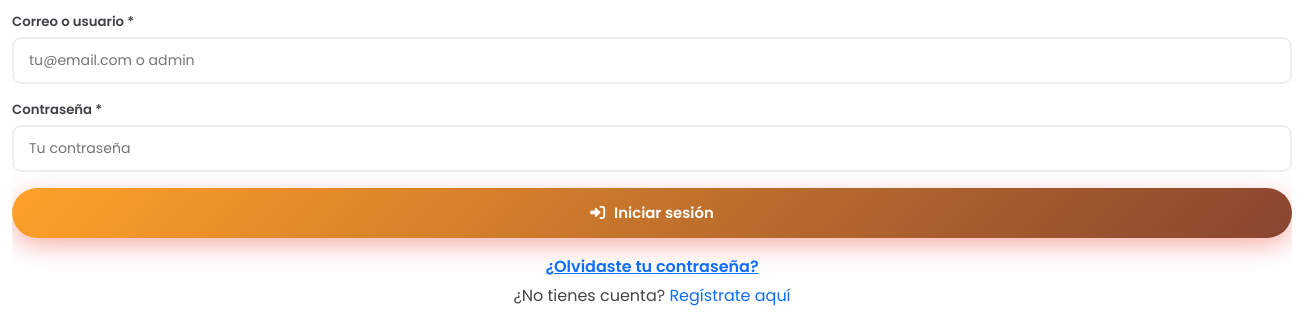
FormLogin › el enlace "¿Olvidaste tu contraseña?" cambia al modo recuperar
Click the button "¿Olvidaste tu contraseña?". click: click(652, 267)
box: [544, 254, 760, 280]
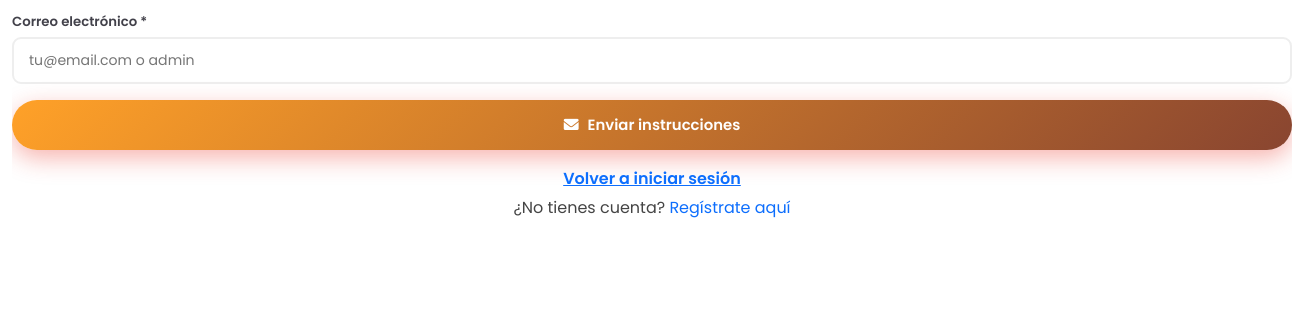
Result: the button "Enviar instrucciones" is shown at [12, 100, 1292, 150]
Result: the label labelled "Contraseña" is gone
